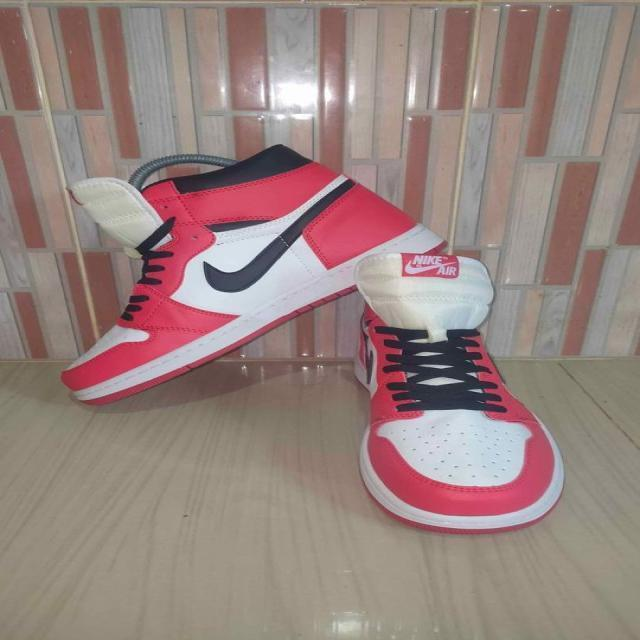nike fake jordan 1: (51, 144, 453, 408), (344, 252, 569, 534)
